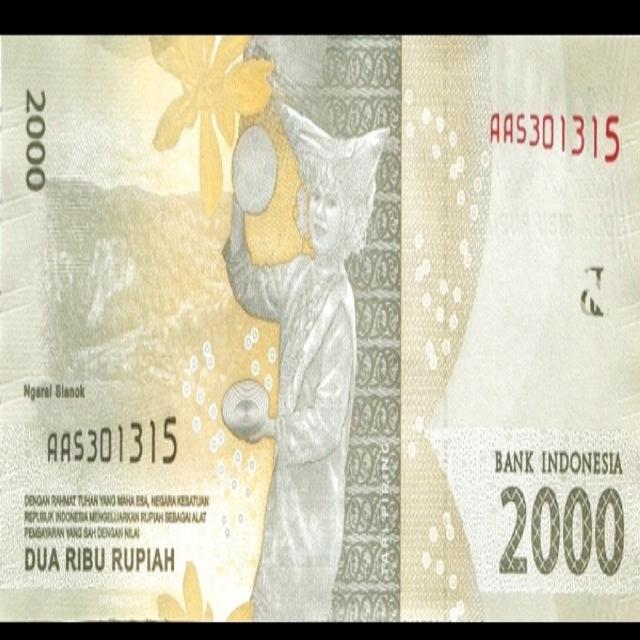dua ribu rupiah: (2, 35, 640, 622)
